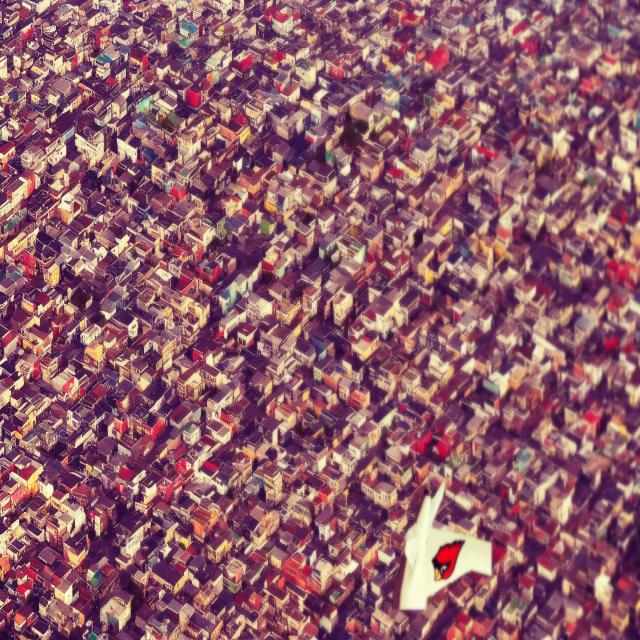airplane: (391, 475, 497, 612)
